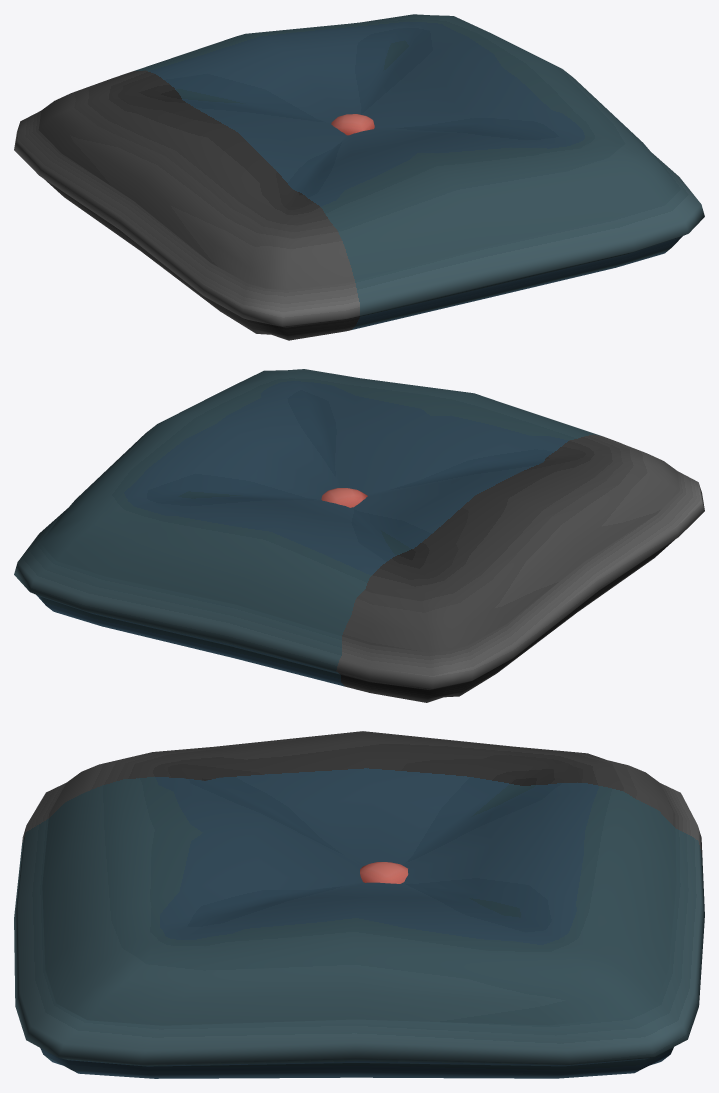
Rendered from CharSkyKid_Prop_AP10Pillow_01.glb.
The picture shows the model from 3 angles, top to bottom: view 1: azimuth 30°, elevation 25°; view 2: azimuth 150°, elevation 25°; view 3: azimuth 270°, elevation 25°; orthographic projection. The views are drawn at different scales.
Visible parts, largest first — view 1: CharSkyKid_Prop_AP10Pillow_01; view 2: CharSkyKid_Prop_AP10Pillow_01; view 3: CharSkyKid_Prop_AP10Pillow_01.
Boxes of the visible parts, box(x1,y1,x2,y2) form: CharSkyKid_Prop_AP10Pillow_01: box(14, 14, 704, 340); CharSkyKid_Prop_AP10Pillow_01: box(14, 369, 704, 702); CharSkyKid_Prop_AP10Pillow_01: box(14, 731, 704, 1078).
Bounding box in the file's own units: 0.9137 × 0.1937 × 0.9534.
Materials: 1 (1 with a texture image).
